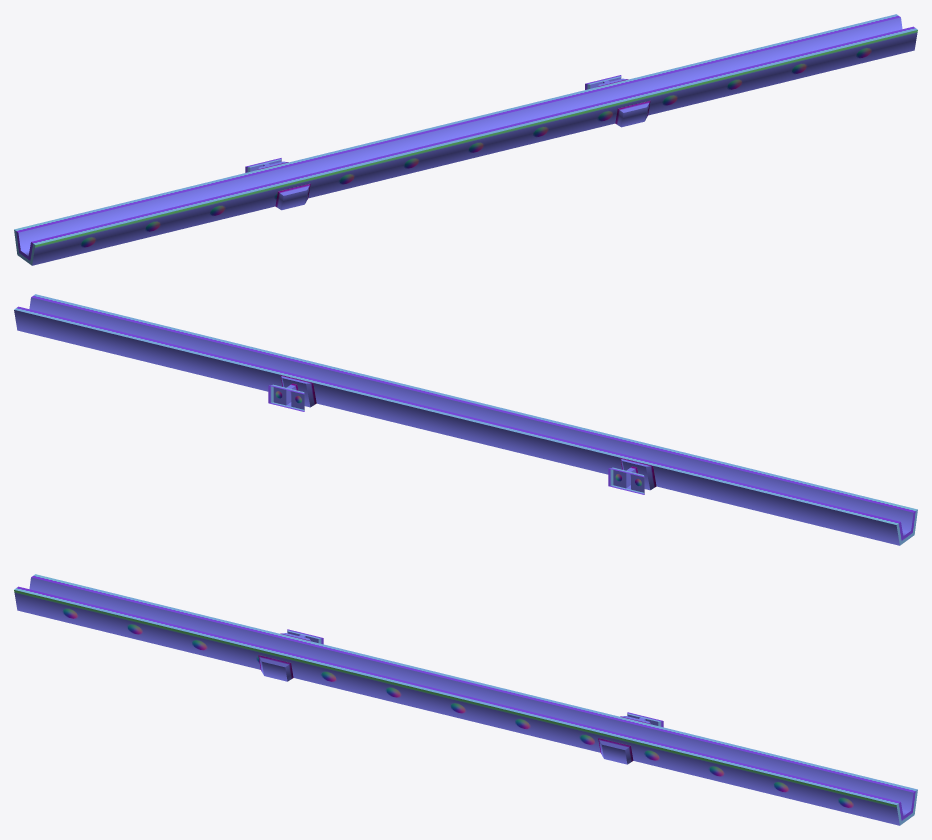
File: sm_gutter_03.fbx
The picture shows the model from 3 angles, top to bottom: view 1: azimuth 30°, elevation 25°; view 2: azimuth 150°, elevation 25°; view 3: azimuth 330°, elevation 25°; orthographic projection.
Parts seen in each view (by area): view 1: sm_gutter_03; view 2: sm_gutter_03; view 3: sm_gutter_03.
Boxes of the visible parts, bbox=[...] form: sm_gutter_03: bbox=[14, 14, 917, 265]; sm_gutter_03: bbox=[14, 294, 917, 545]; sm_gutter_03: bbox=[14, 574, 917, 825].
Size of the model in its own units: 400 by 11.8 by 25.1.
Materials: 1 (1 with a texture image).
